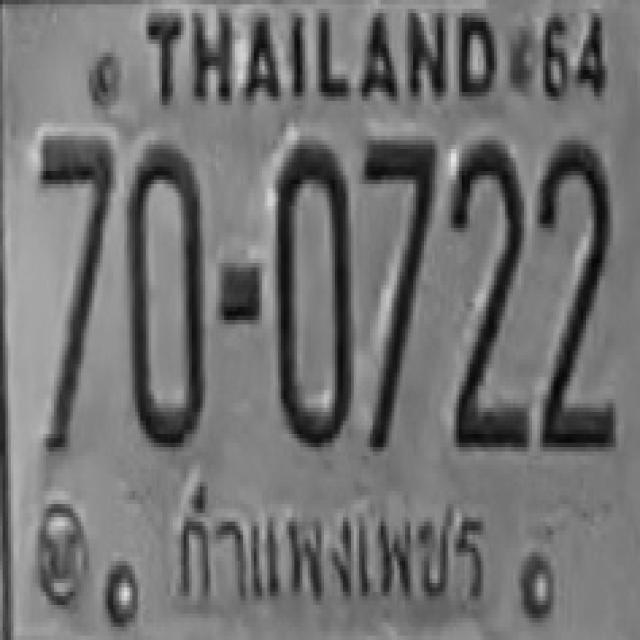0: (273, 136, 348, 443), (126, 142, 201, 445)
2: (537, 136, 613, 451), (450, 138, 525, 445)
7: (38, 134, 113, 454), (362, 136, 435, 447), (38, 134, 113, 357), (362, 134, 435, 353)
KamphaengPhet: (161, 469, 498, 615)
